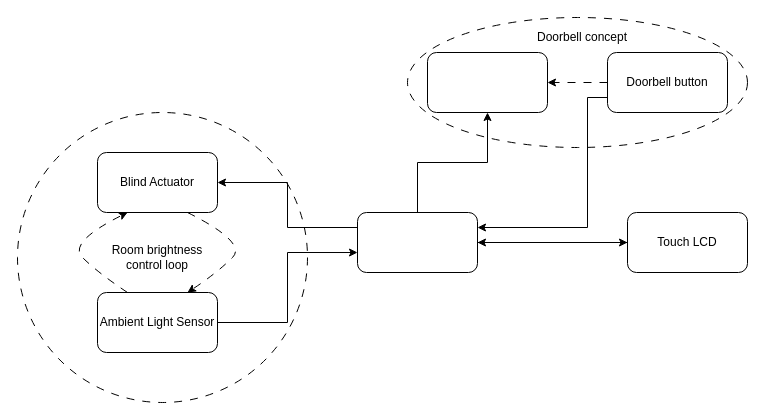
The diagram is 765 pixels wide and 420 high, and some of its shapes have lost their labels. The centre of each missing label's shape, as x and y in pixels:
"Doorbell Speaker" goes at (x=487, y=82).
"System Controller" goes at (x=417, y=242).
